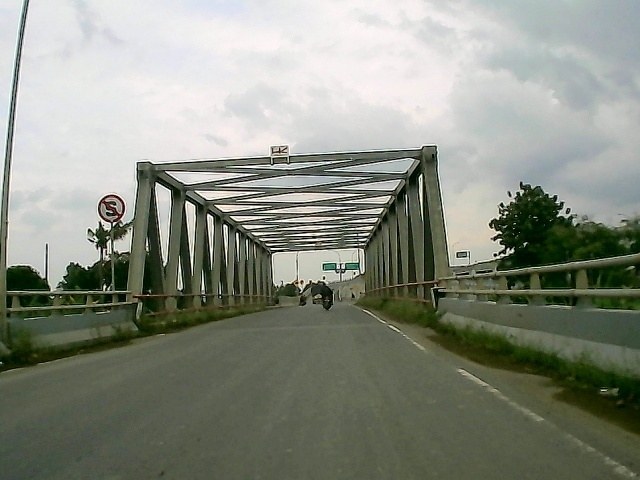Dilarang berhenti: (96, 193, 126, 226)
